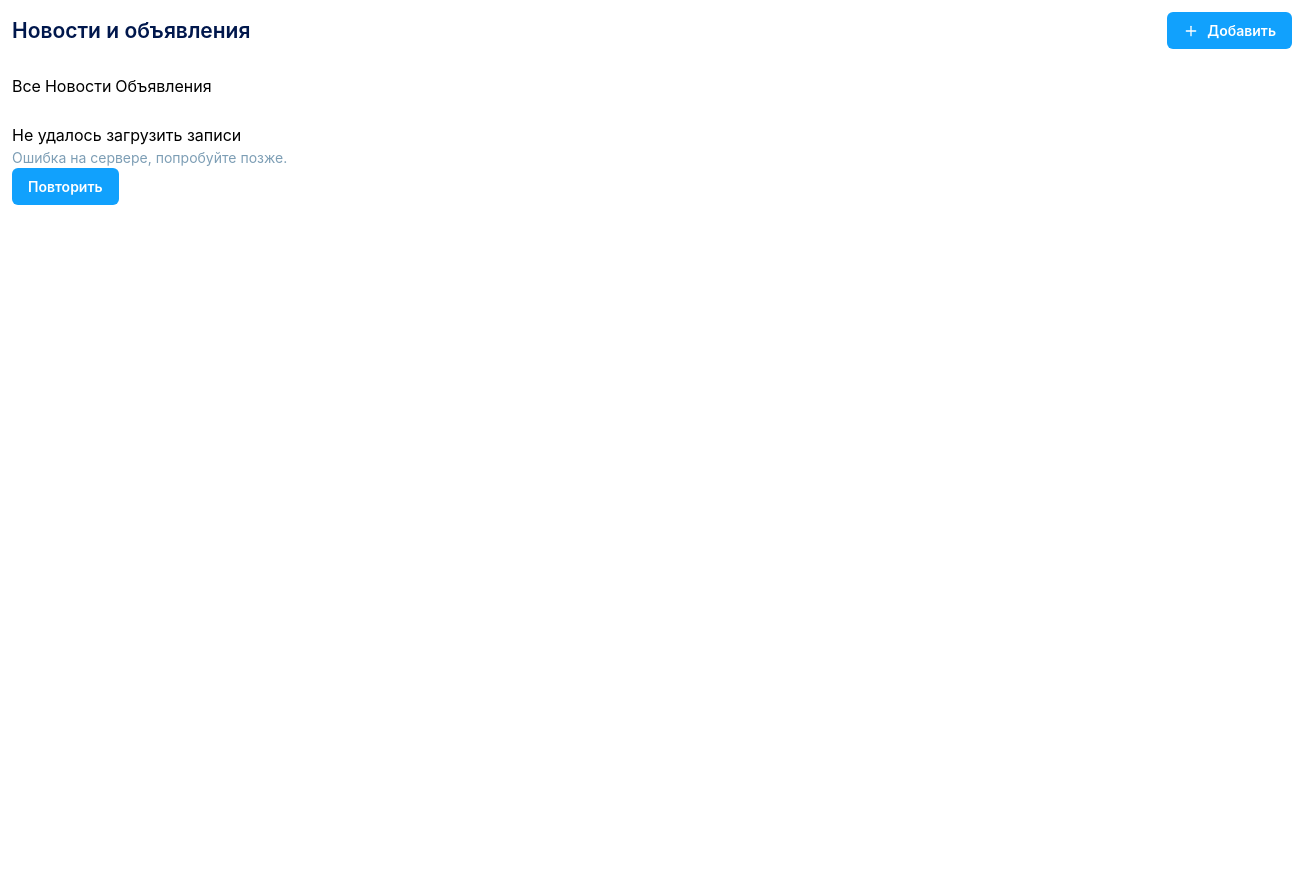
Test: AdminNewsPage, список › показывает сбой и повторяет запрос
The image size is (1304, 889).
expect the text "Не удалось загрузить записи" is shown: met, box 12,125 -> 241,145
Click the button "Повторить": [65, 186] box 12,168 -> 119,205
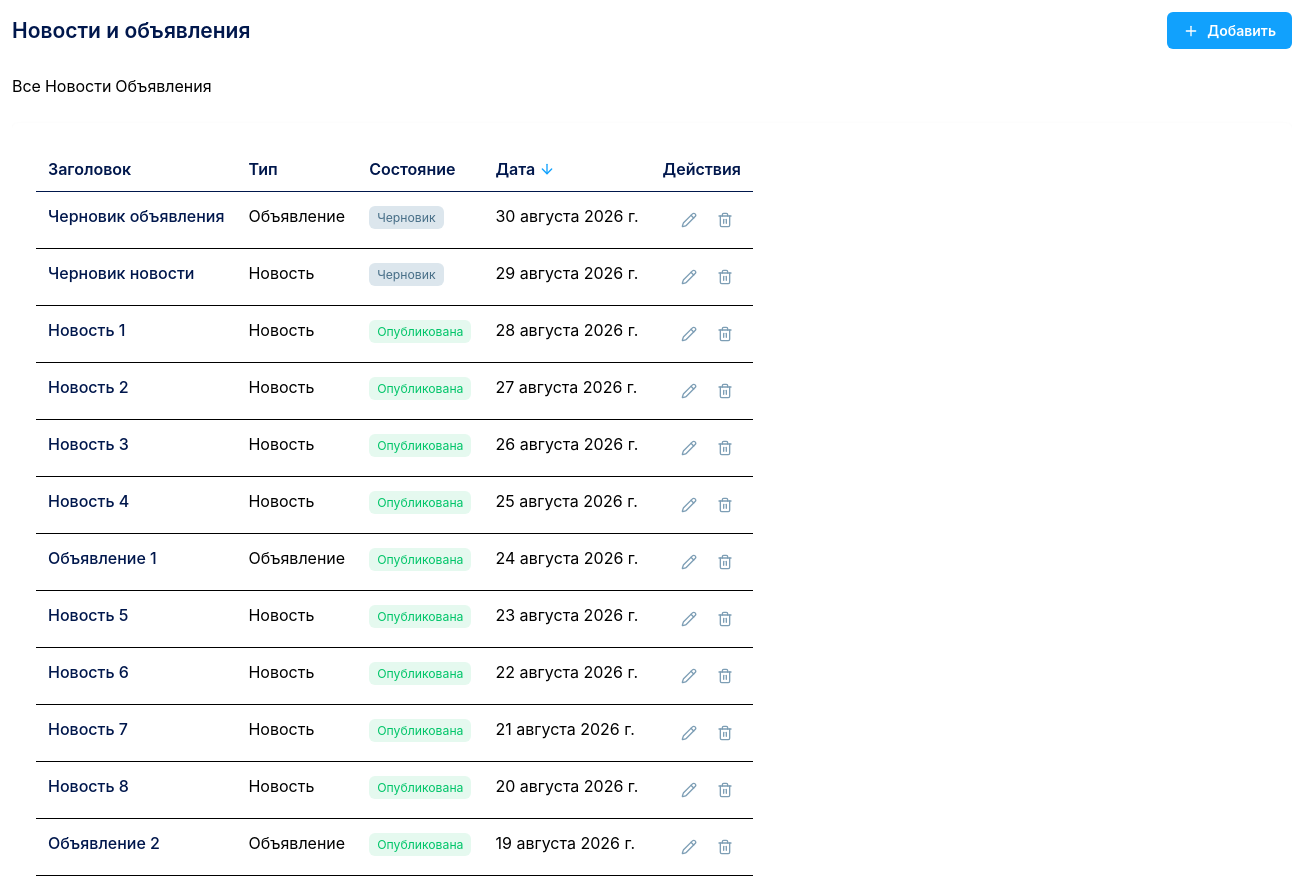
expect the cell "Новость 1" is shown: met, box 36,306 -> 236,362
